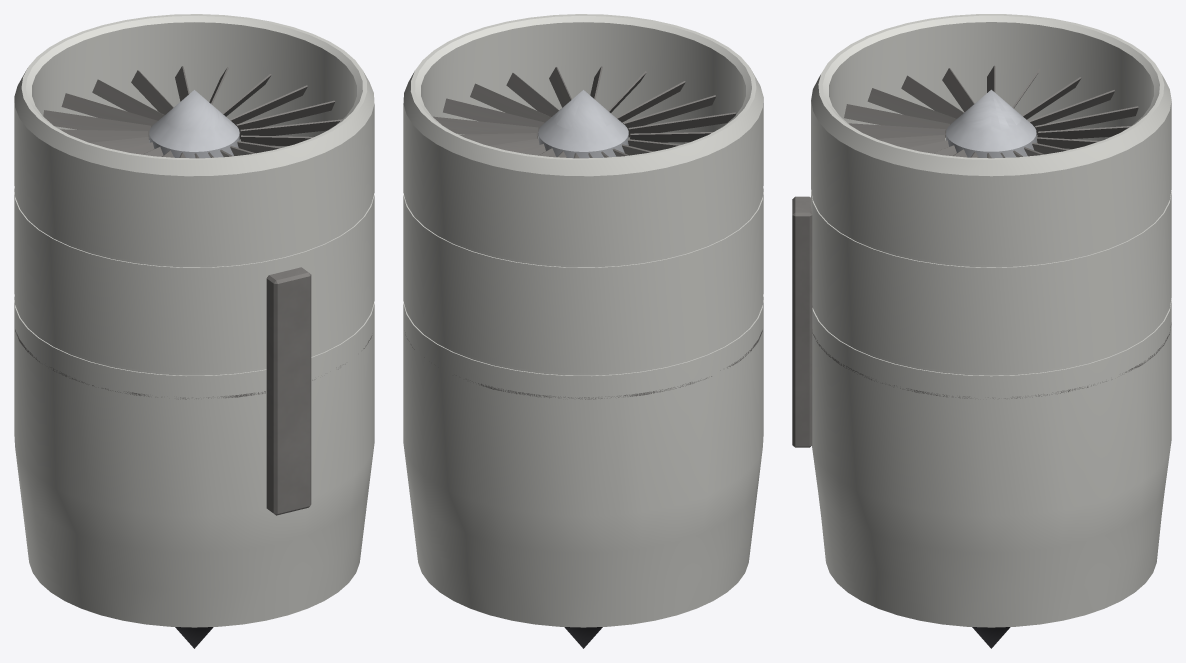
File: ax_aero_27_jehb_turbofan.glb
3 views of the same model, side by side, from view 1: azimuth 30°, elevation 25°; view 2: azimuth 150°, elevation 25°; view 3: azimuth 270°, elevation 25° (orthographic).
Visible parts, largest first — view 1: nacelle, pylon_pad, fan_blades, spinner; view 2: nacelle, fan_blades, spinner, rear_frame; view 3: nacelle, fan_blades, pylon_pad, spinner.
Boxes of the visible parts, <box> form: nacelle: <box>14,14,374,627</box>; pylon_pad: <box>266,267,311,515</box>; fan_blades: <box>43,66,341,158</box>; spinner: <box>149,90,239,158</box>; nacelle: <box>403,14,763,627</box>; fan_blades: <box>433,66,735,158</box>; spinner: <box>538,90,628,158</box>; rear_frame: <box>405,330,762,399</box>; nacelle: <box>811,14,1171,627</box>; fan_blades: <box>844,65,1138,158</box>; pylon_pad: <box>792,196,812,447</box>; spinner: <box>946,89,1036,158</box>.
Size of the model in its own units: 2.5 by 4.3 by 2.63.
4 materials, 2 textured.
